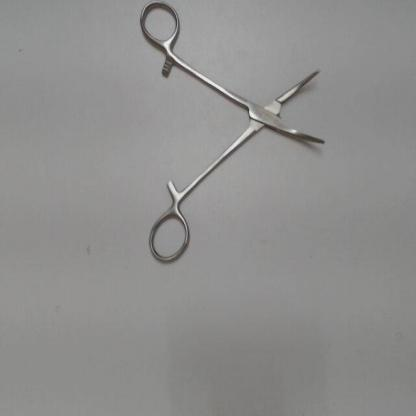Crile Artery Forceps: (135, 2, 331, 271)
